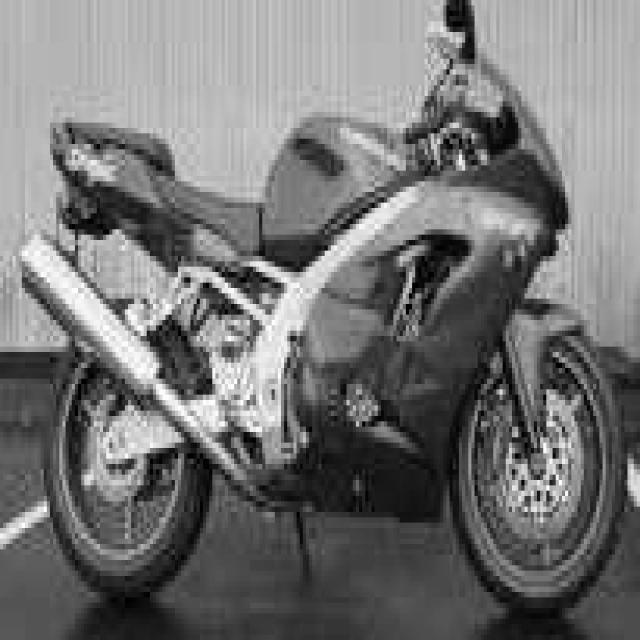Motorcycle: (20, 0, 621, 608)
